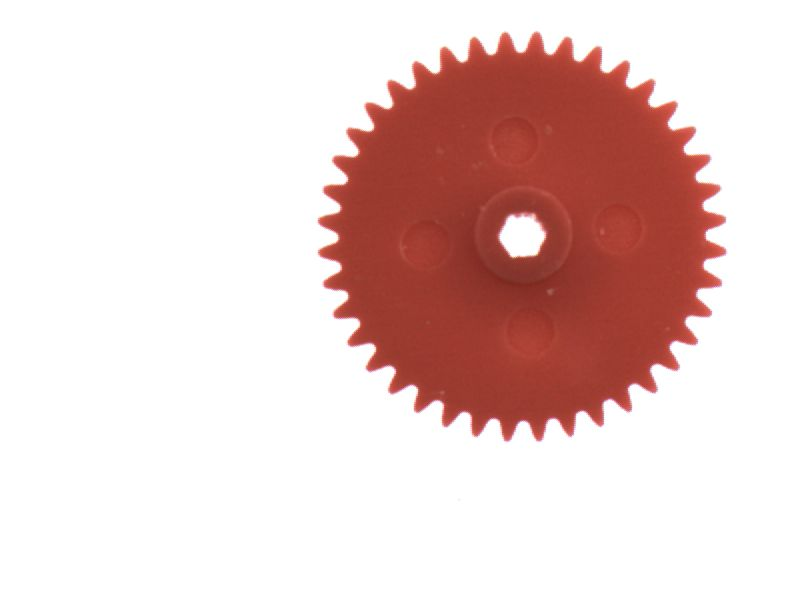good_product: (308, 21, 740, 451)
